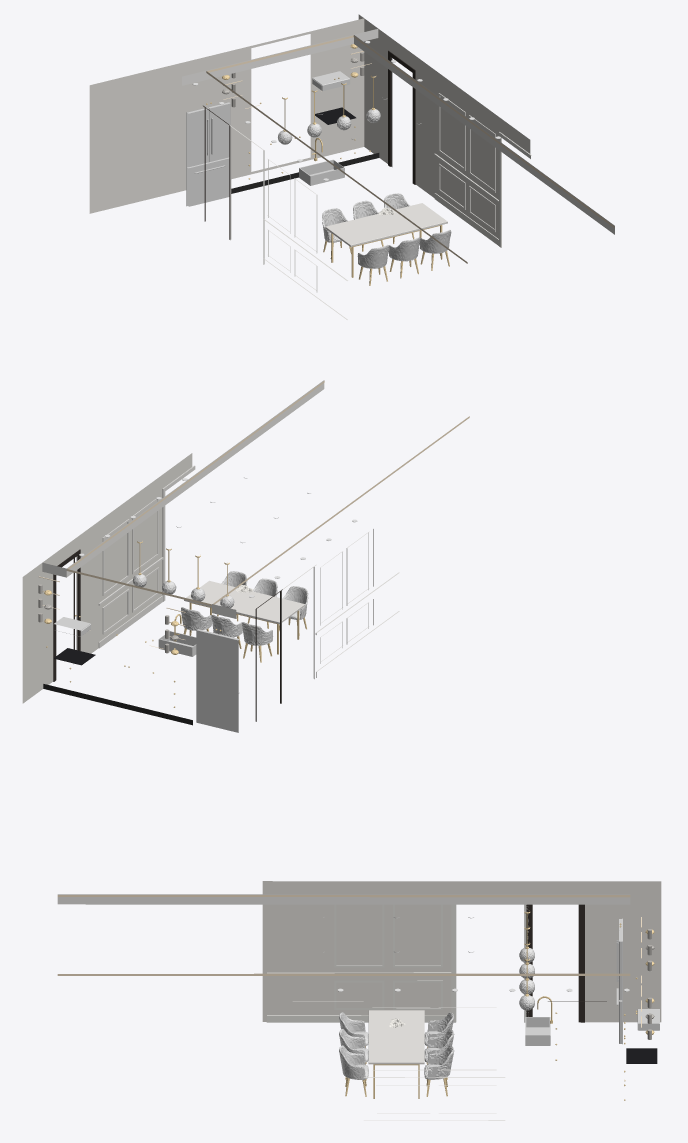
The model's file is KITDIN.glb.
3 renders of one model, top to bottom at view 1: azimuth 30°, elevation 25°; view 2: azimuth 150°, elevation 25°; view 3: azimuth 270°, elevation 25°, orthographic. The views are drawn at different scales.
Parts seen in each view (by area): view 1: WEB_KITDIN; view 2: WEB_KITDIN; view 3: WEB_KITDIN.
Part boxes in pixels (box(x1,y1,x2,y2)): WEB_KITDIN: box(89, 14, 614, 319); WEB_KITDIN: box(22, 380, 469, 732); WEB_KITDIN: box(57, 881, 661, 1120).
Size of the model in its own units: 7.6 by 2.5 by 10.61.
